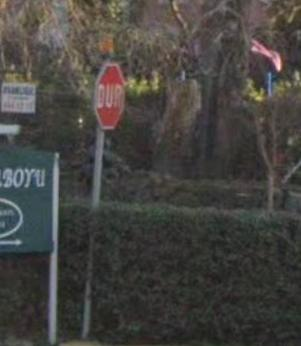stop: (93, 63, 128, 127)
